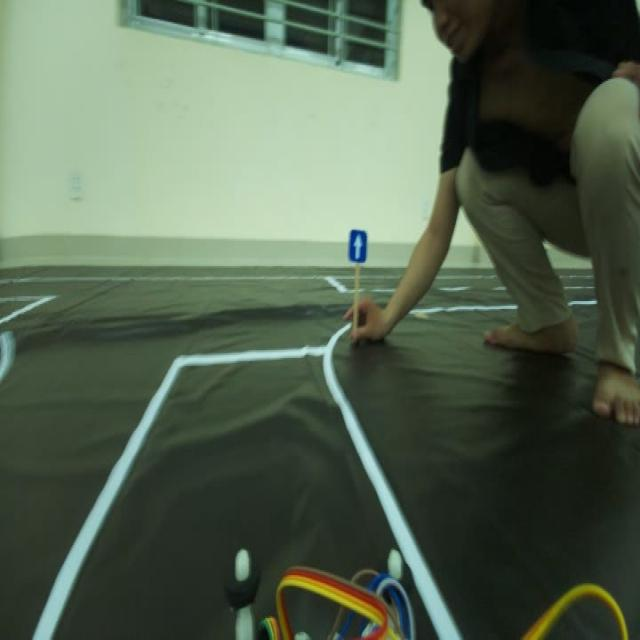onewayroad: (348, 223, 366, 267)
